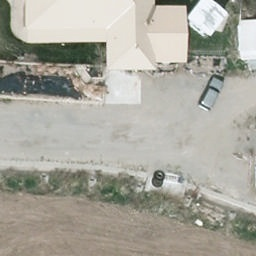car: (196, 76, 224, 112)
